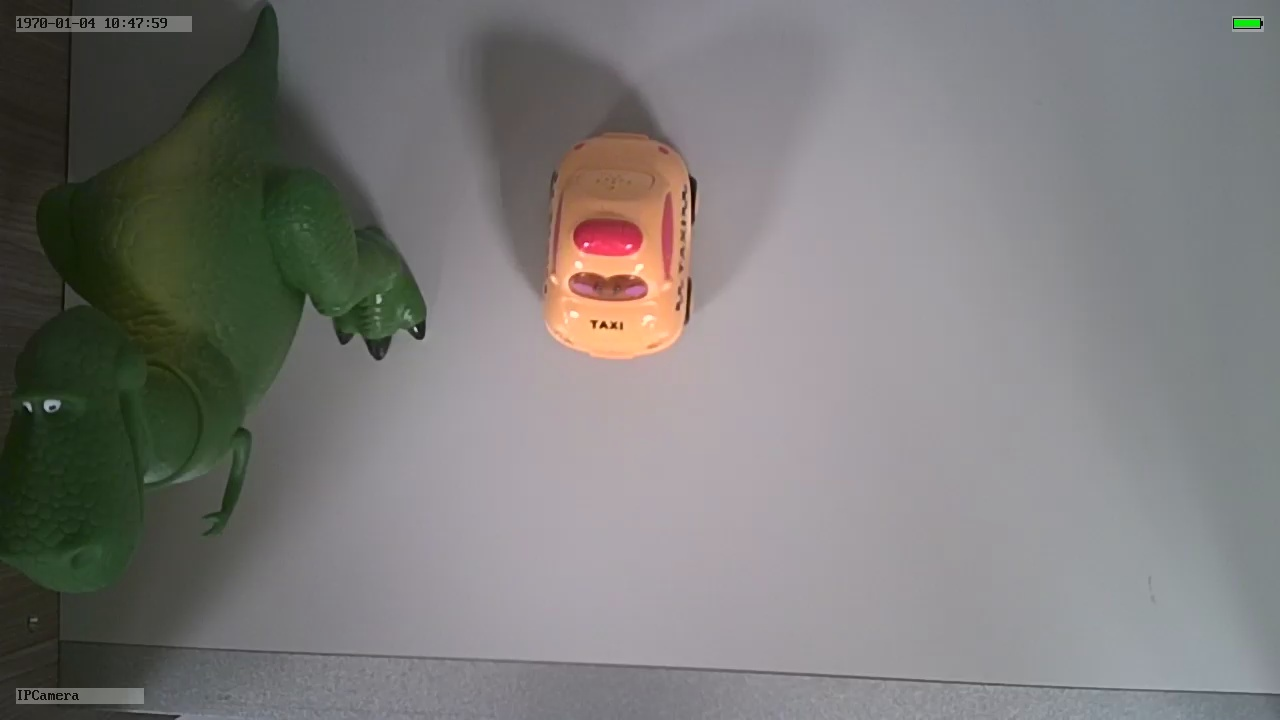car: (538, 127, 701, 363)
rex: (6, 70, 424, 596)
